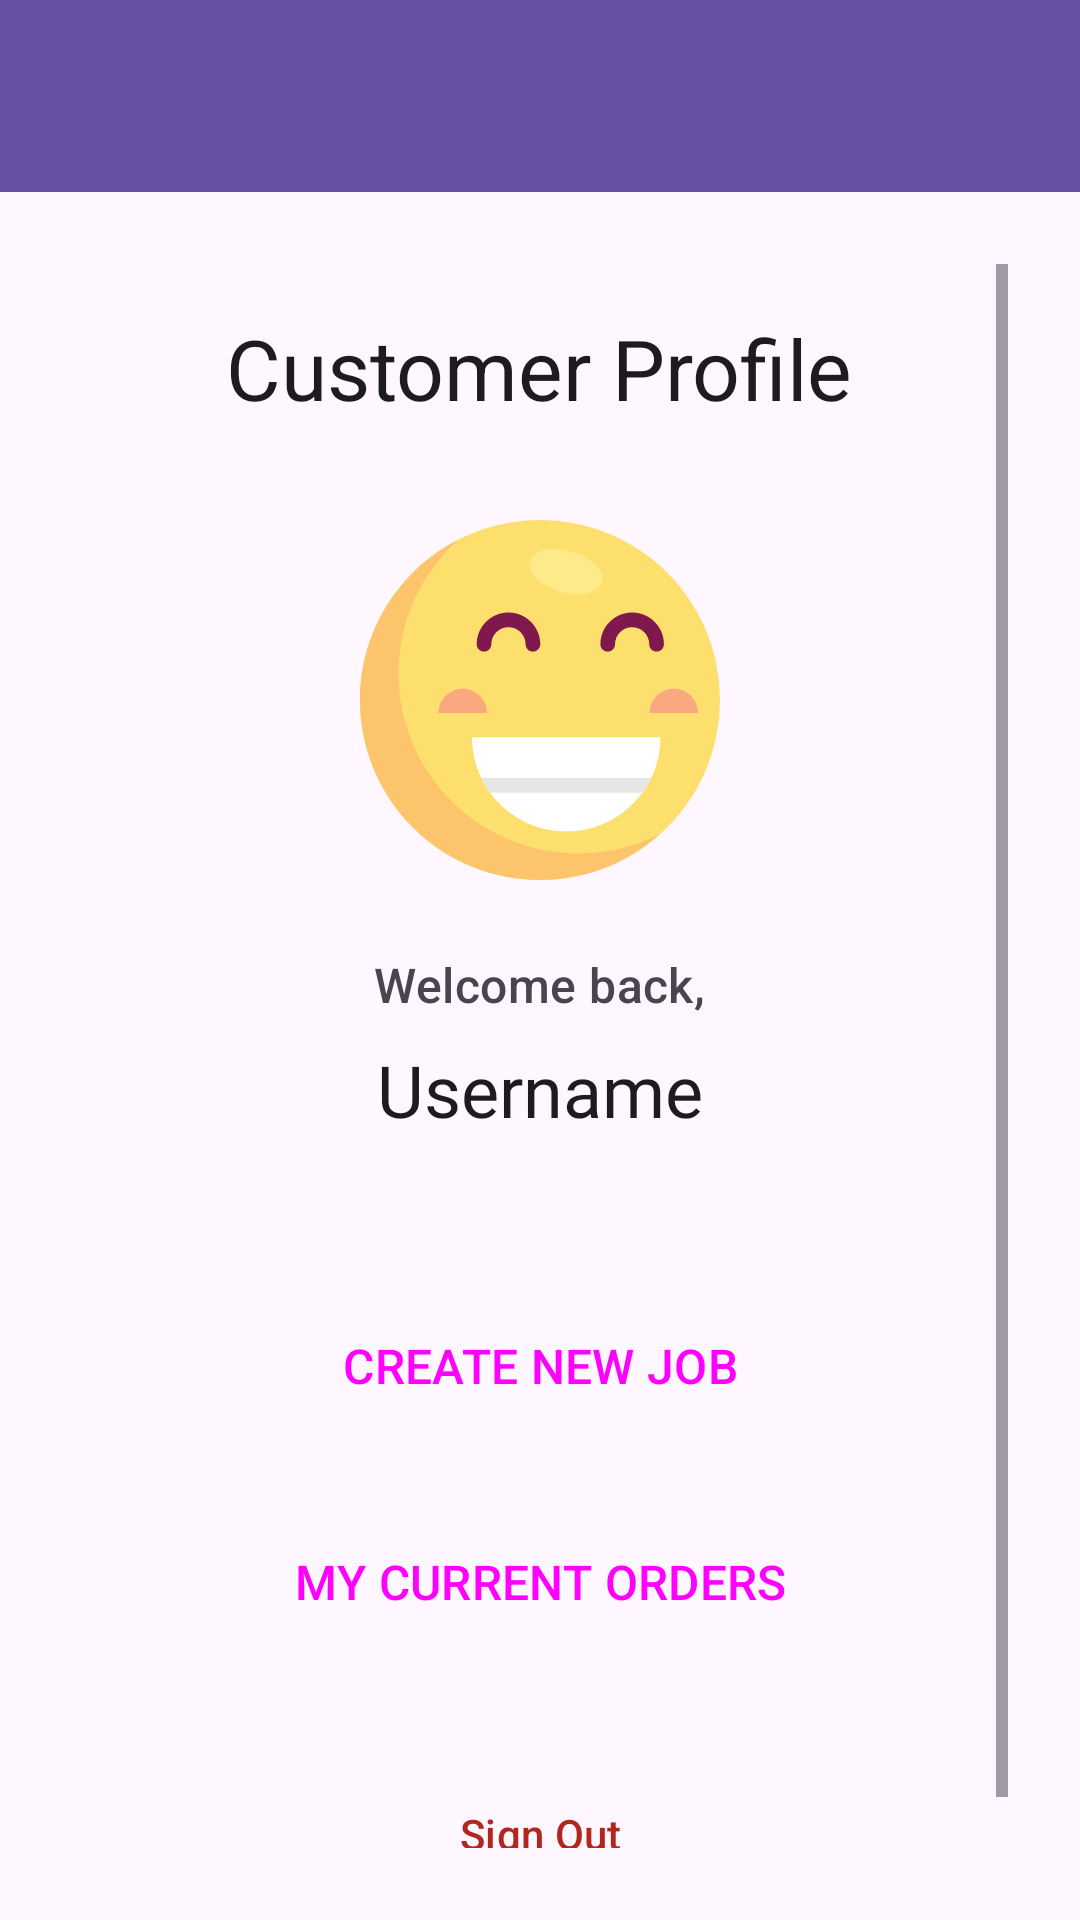

Screen size 1080 x 1920. Icon name, then its box in pixels as rect(x1, y1, x2, y2):
happy: rect(360, 520, 720, 880)
